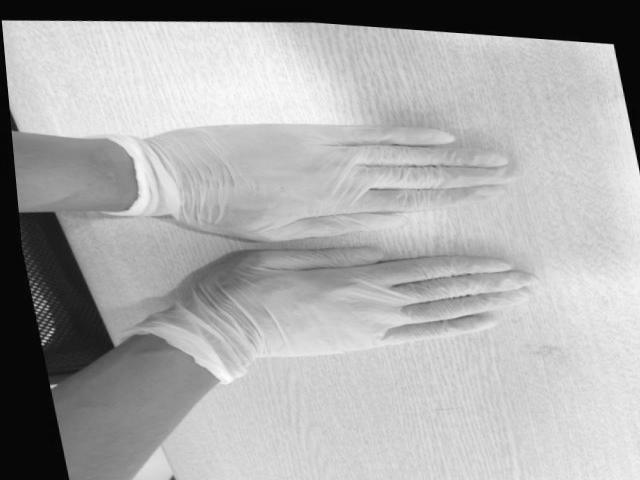gloved: (178, 123, 508, 245), (198, 248, 535, 359)
